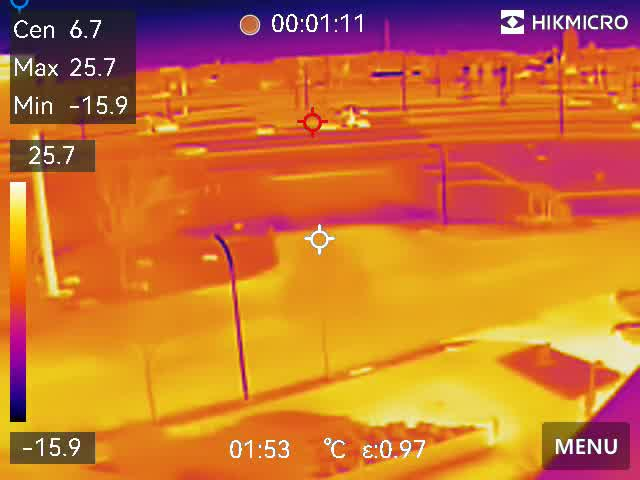heavyTruck: (252, 103, 375, 130), (62, 110, 183, 135)
vehicle: (169, 139, 207, 160)
